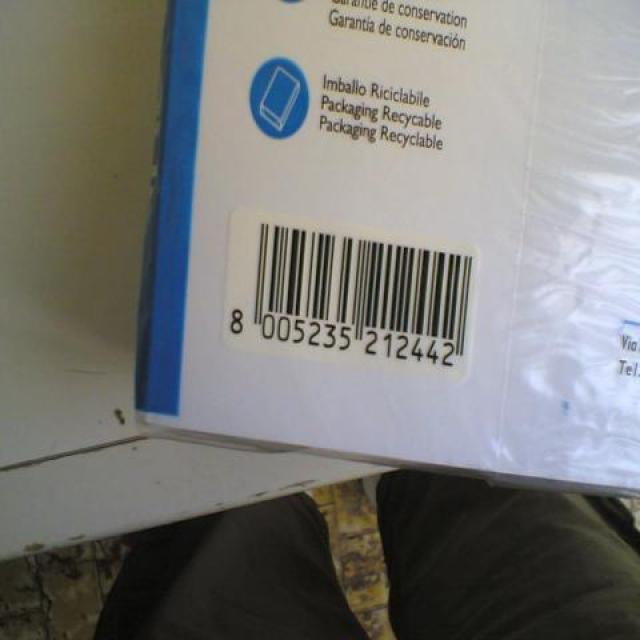Barcode: (222, 204, 483, 388)
